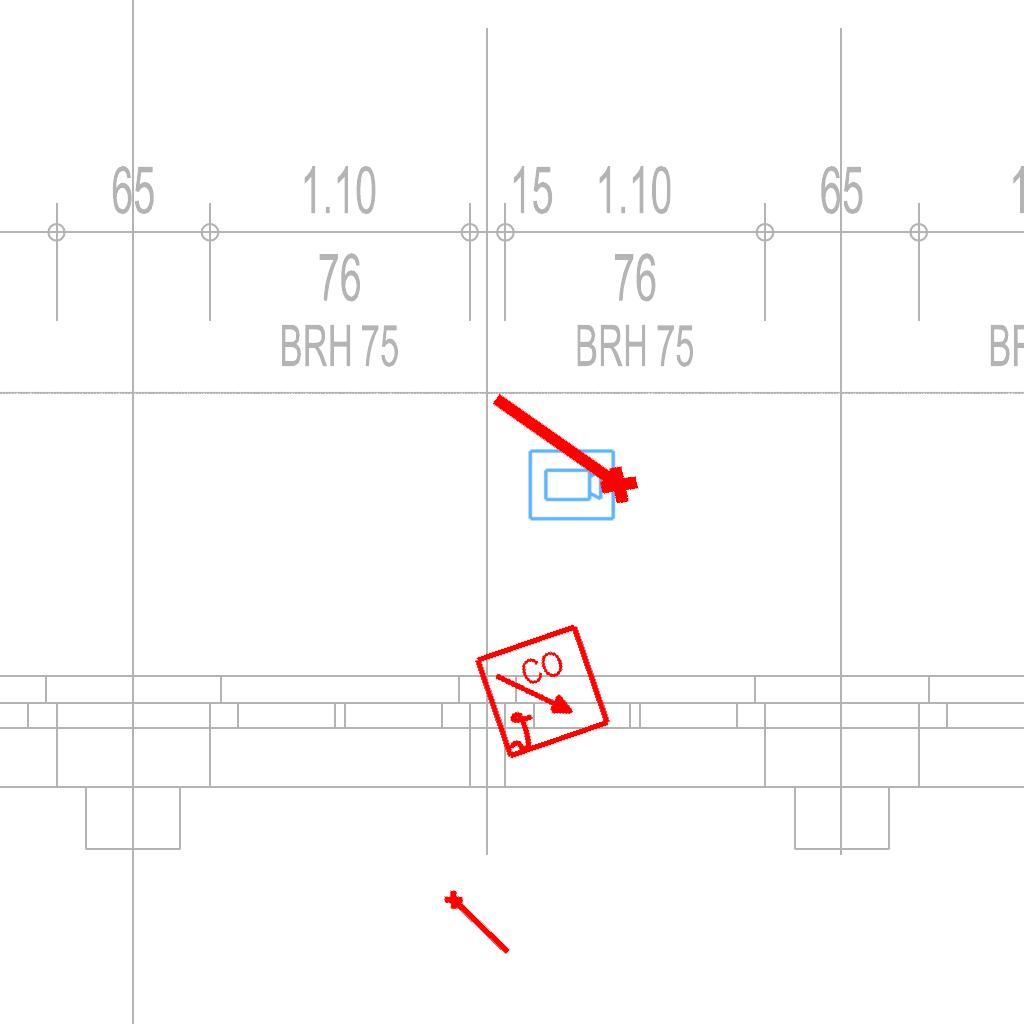ASR_Ansaugoeffnung: (476, 378, 648, 518), (439, 883, 519, 962)
KFO_Kamera_mit_Festobjektiv: (526, 447, 617, 524)
ROA_Rauchmelder_optisch_mit_Signalgeber_(Sockelsirene): (471, 620, 616, 765)
